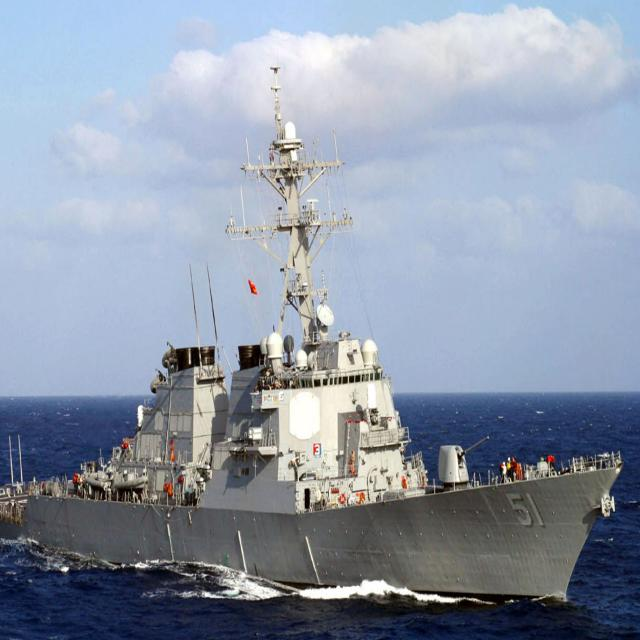navalvessels: (0, 70, 602, 631)
